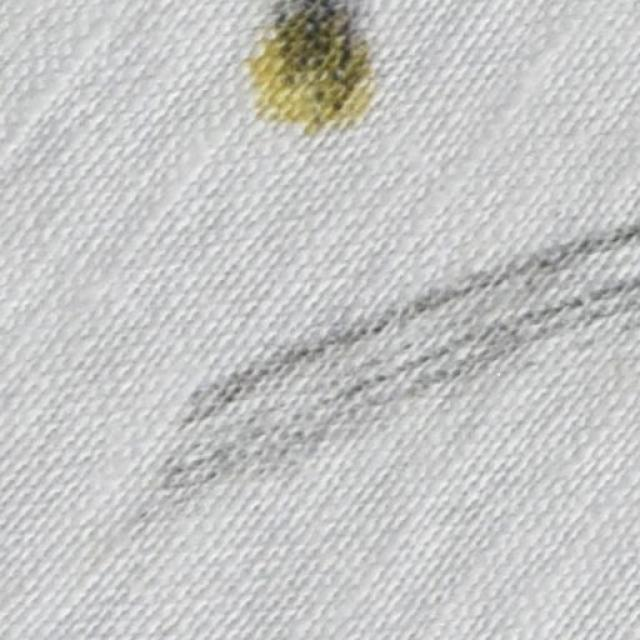Stain: (135, 212, 640, 520), (240, 0, 385, 138)
